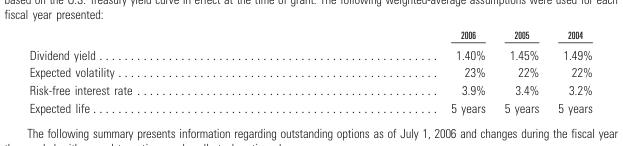table: (28, 29, 591, 114)
table column: (28, 29, 443, 114), (494, 29, 547, 114), (443, 29, 494, 114), (547, 29, 591, 114)
table column header: (28, 29, 591, 43)
table row: (28, 43, 591, 62), (28, 62, 591, 80), (28, 80, 591, 98), (28, 98, 591, 114), (28, 29, 591, 43)
